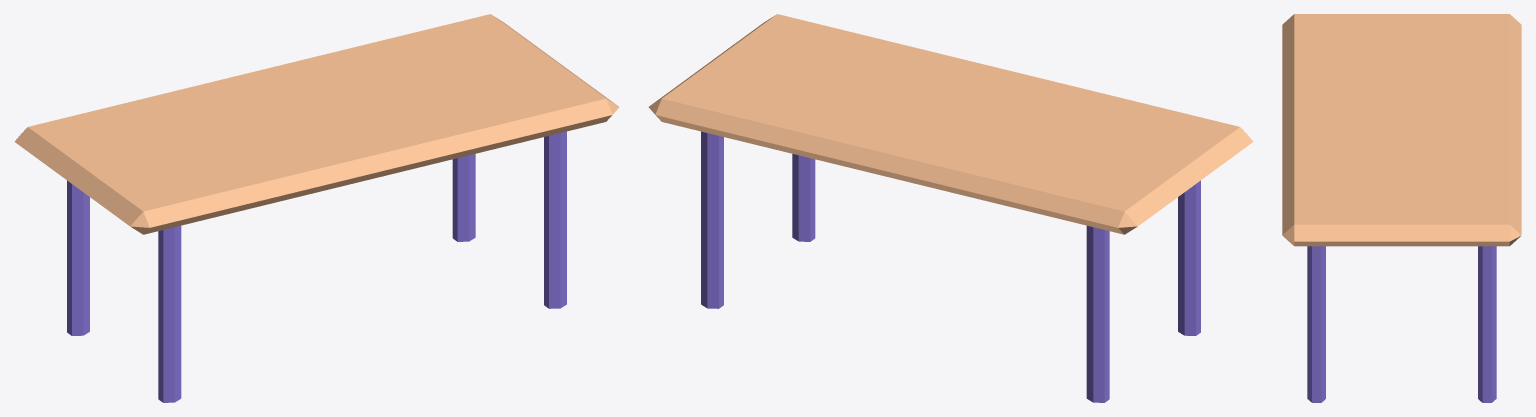
The picture shows the model from 3 angles, left to right: view 1: azimuth 30°, elevation 25°; view 2: azimuth 150°, elevation 25°; view 3: azimuth 270°, elevation 25°; orthographic projection. The views are drawn at different scales.
Parts seen in each view (by area): view 1: Rounded table top, Leg, Leg.002, Leg.001, Leg.003; view 2: Rounded table top, Leg.001, Leg.003, Leg, Leg.002; view 3: Rounded table top, Leg.002, Leg.003.
Part boxes in pixels (left/top/right/bottom): Rounded table top: left=14, top=14, right=619, bottom=234; Leg: left=158, top=225, right=181, bottom=402; Leg.002: left=544, top=131, right=566, bottom=308; Leg.001: left=67, top=180, right=89, bottom=335; Leg.003: left=452, top=154, right=475, bottom=241; Rounded table top: left=648, top=14, right=1253, bottom=234; Leg.001: left=1086, top=225, right=1109, bottom=402; Leg.003: left=701, top=131, right=723, bottom=308; Leg: left=1178, top=180, right=1200, bottom=335; Leg.002: left=792, top=154, right=815, bottom=241; Rounded table top: left=1282, top=14, right=1521, bottom=246; Leg.002: left=1307, top=246, right=1325, bottom=402; Leg.003: left=1478, top=246, right=1496, bottom=402.
Size of the model in its own units: 198 by 79.5 by 90.
